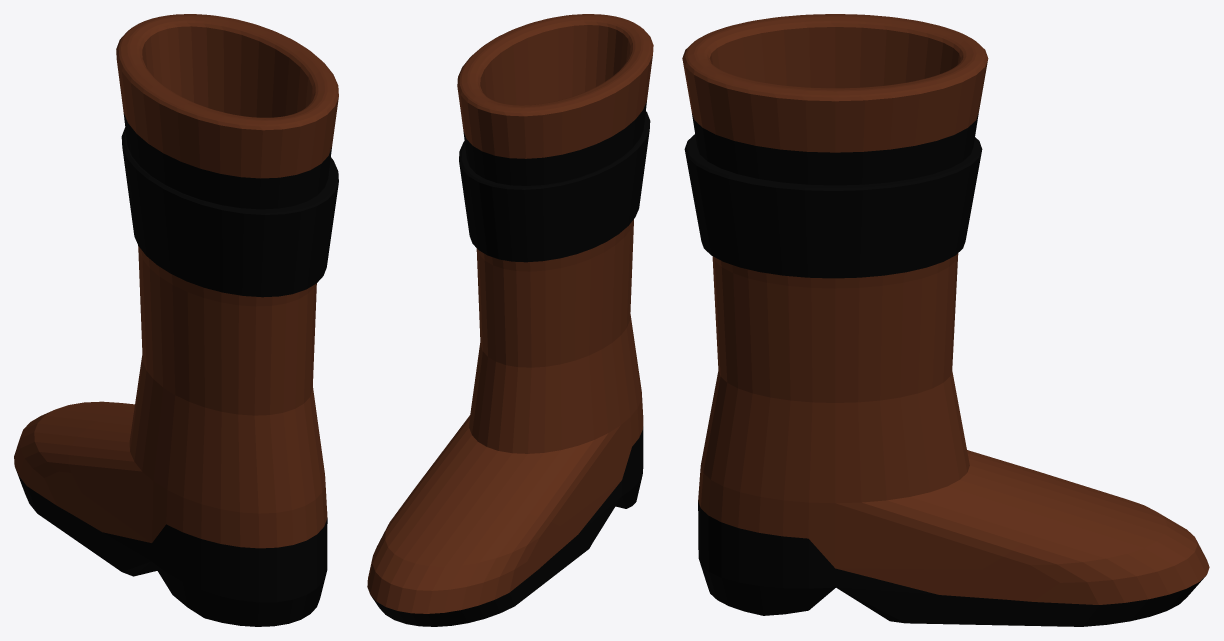
The model's file is Boots.fbx.
3 views of the same model, side by side, from view 1: azimuth 30°, elevation 25°; view 2: azimuth 150°, elevation 25°; view 3: azimuth 270°, elevation 25° (orthographic). The views are drawn at different scales.
Parts seen in each view (by area): view 1: Boots, Decorate; view 2: Boots, Decorate; view 3: Boots, Decorate.
Part boxes in pixels (box(x1,y1,x2,y2)): Boots: box(14, 14, 338, 626); Decorate: box(121, 127, 338, 297); Boots: box(367, 14, 653, 626); Decorate: box(459, 111, 650, 262); Boots: box(682, 14, 1209, 626); Decorate: box(684, 134, 982, 278).
Size of the model in its own units: 47.84 by 140 by 124.
